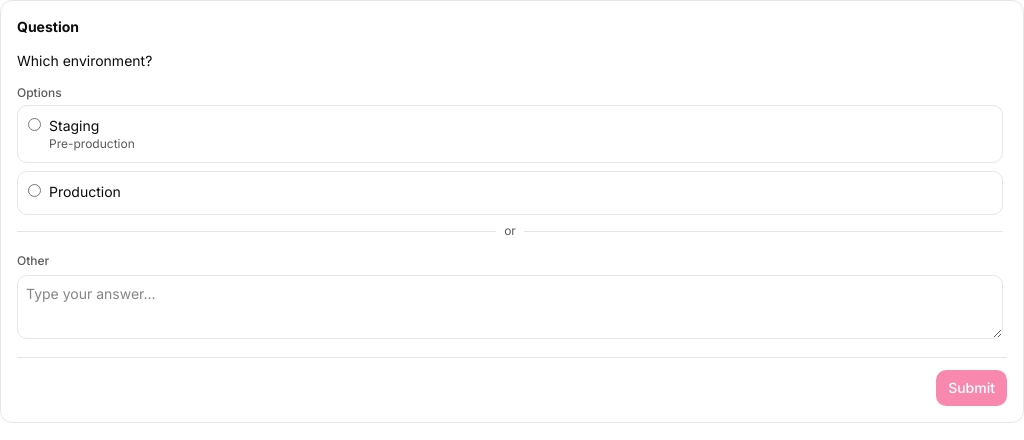
it: QuestionCard › keeps Submit in the DOM but disabled while an answer is in flight
Click the radio button labelled "Staging Pre-production". click: click(34, 124)
box: [28,118,41,131]
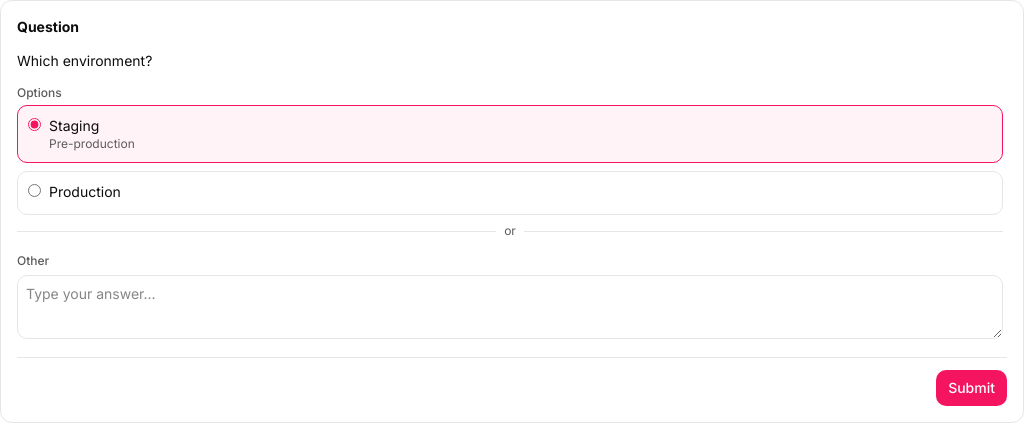
Click the button "Submit". click: click(972, 388)
box: [936,370,1007,406]
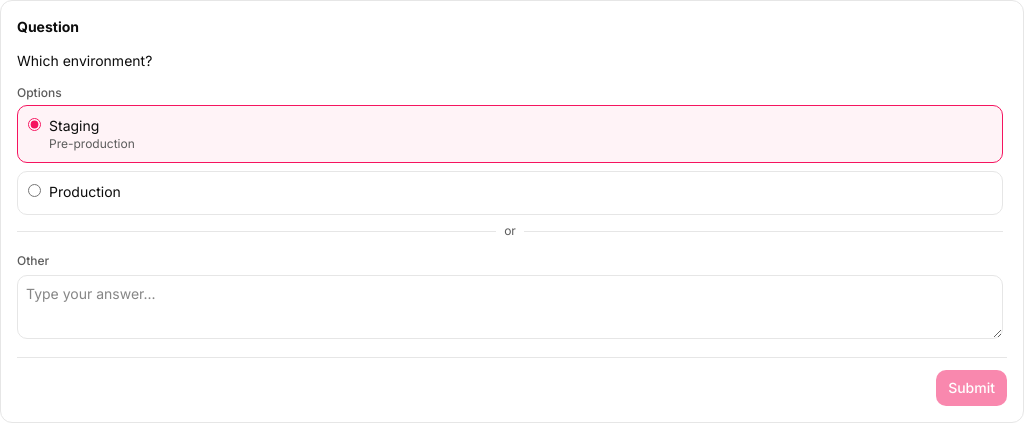
Check: the button "Submit" is disabled
Click the button "Submit". click: click(972, 388)
box: [936,370,1007,406]
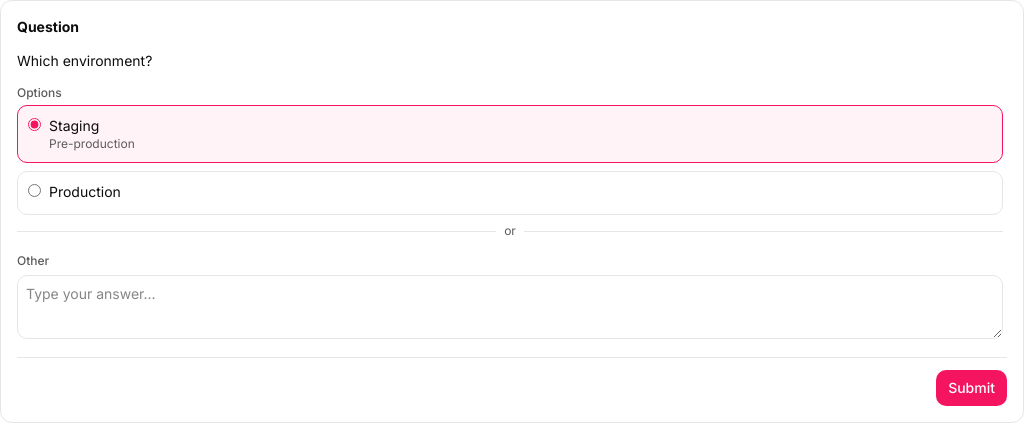
Check: the button "Submit" is enabled, box [936,370,1007,406]
